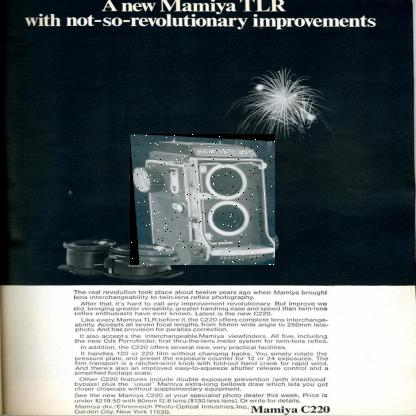Camera: (131, 135, 277, 267)
